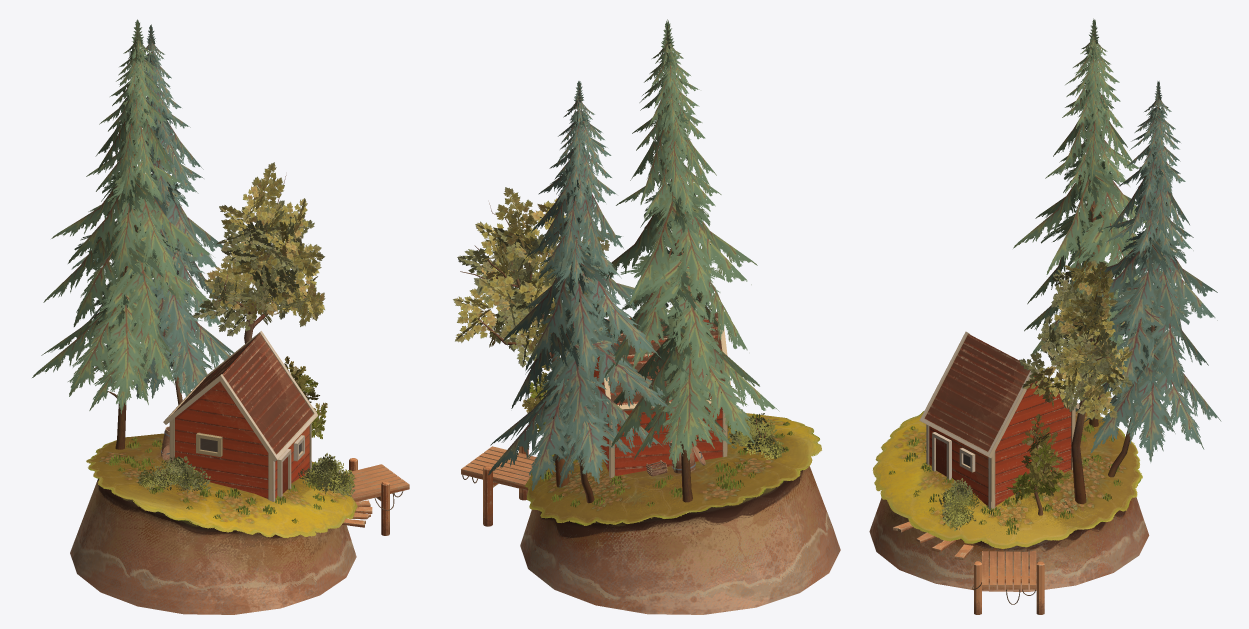
The model's file is contact-island.glb.
3 renders of one model, left to right at view 1: azimuth 30°, elevation 25°; view 2: azimuth 150°, elevation 25°; view 3: azimuth 270°, elevation 25°, orthographic. The views are drawn at different scales.
Visible parts, largest first — view 1: Plane.016, Cylinder.002, Cube.016, Plane.089, Plane.002, Cylinder.001, Plane.305, Cube.015, Plane.014, Cylinder.008, Plane.051; view 2: Plane.016, Cylinder.002, Plane.002, Cylinder.001, Plane.089, Cube.016, Cube.015, Cylinder.008, Plane.014, Plane.305, Plane.051; view 3: Plane.002, Cube.016, Cylinder.001, Plane.016, Cylinder.002, Plane.089, Cube.015, Plane.051, Cylinder.008, Plane.014, Plane.305.
Boxes of the visible parts, box(x1,y1,x2,y2) form: Plane.016: box(32, 19, 213, 413); Cylinder.002: box(70, 478, 356, 614); Cube.016: box(163, 331, 318, 501); Plane.089: box(192, 162, 325, 336); Plane.002: box(71, 24, 234, 398); Cylinder.001: box(86, 433, 357, 537); Plane.305: box(137, 453, 355, 497); Cube.015: box(340, 458, 409, 535); Plane.014: box(108, 437, 335, 523); Cylinder.008: box(108, 52, 339, 485); Plane.051: box(284, 356, 327, 438); Plane.016: box(600, 19, 779, 470); Cylinder.002: box(520, 466, 840, 614); Plane.002: box(488, 81, 672, 490); Cylinder.001: box(524, 413, 821, 525); Plane.089: box(453, 187, 610, 367); Cube.016: box(592, 312, 730, 477); Cube.015: box(461, 446, 536, 526); Cylinder.008: box(460, 37, 765, 503); Plane.014: box(540, 413, 793, 507); Plane.305: box(727, 413, 787, 459); Plane.051: box(522, 357, 560, 439); Plane.002: box(1069, 81, 1221, 462); Cube.016: box(919, 331, 1079, 510); Cylinder.001: box(872, 410, 1142, 548); Plane.016: box(1013, 18, 1169, 391); Cylinder.002: box(869, 497, 1149, 591); Plane.089: box(1019, 260, 1133, 419); Cube.015: box(893, 521, 1044, 614); Plane.051: box(1006, 414, 1070, 503); Cylinder.008: box(957, 46, 1158, 515); Plane.014: box(889, 424, 1122, 534); Plane.305: box(939, 478, 979, 531).
Size of the model in its own units: 1.5 by 2.29 by 1.5.
16 materials, 16 textured.
